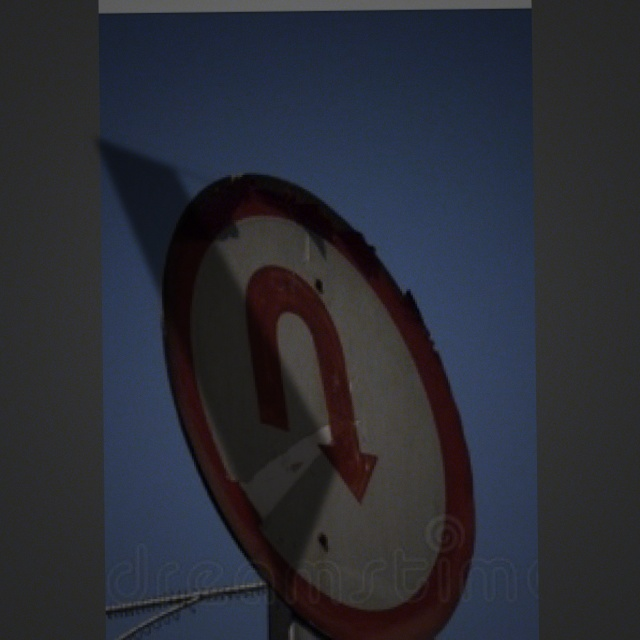U_Turn_Ahead: (167, 166, 483, 597)
